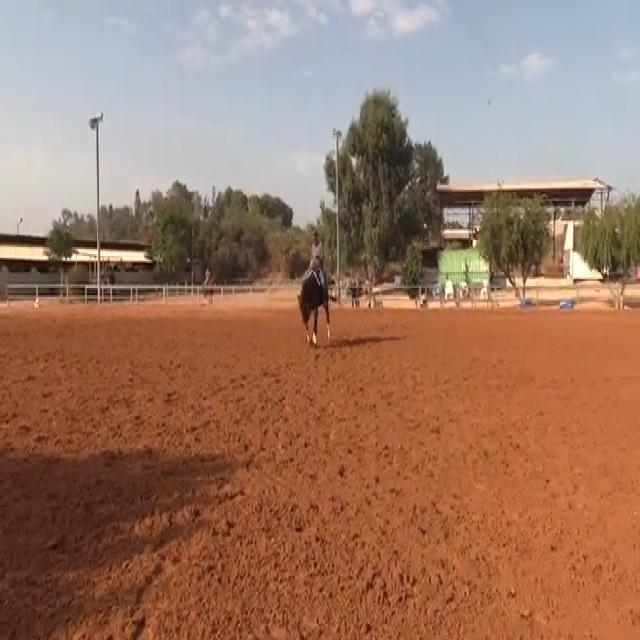horse: (295, 263, 337, 349)
